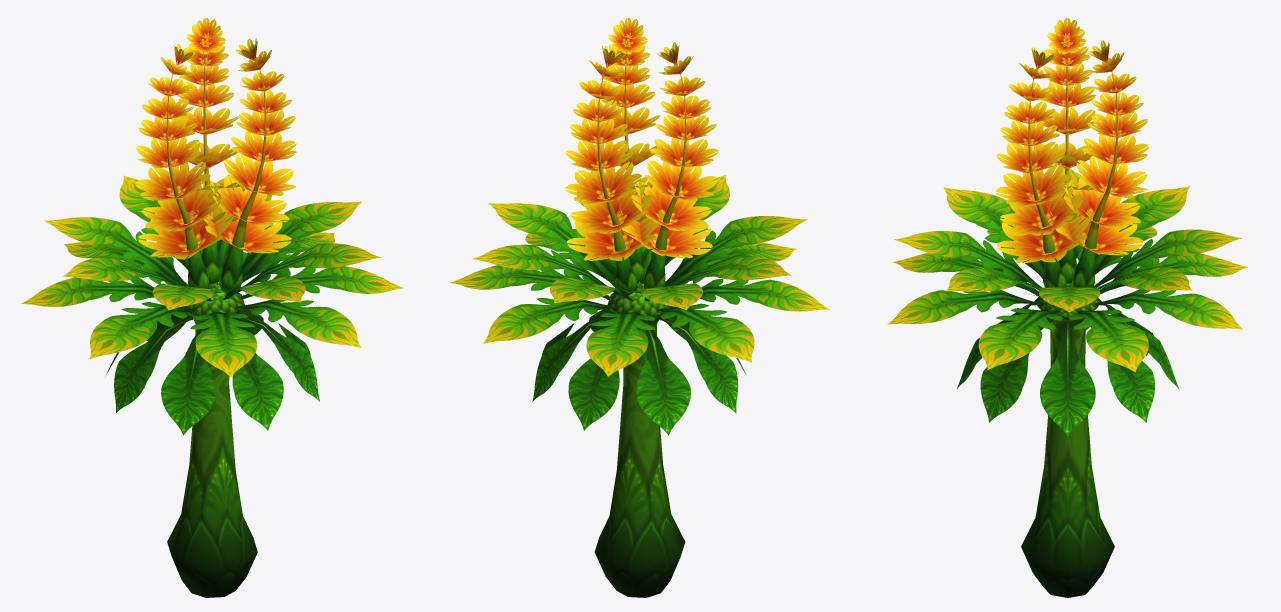
The model's file is Green_Tree_03c.FBX.
The picture shows the model from 3 angles, left to right: view 1: azimuth 30°, elevation 25°; view 2: azimuth 150°, elevation 25°; view 3: azimuth 270°, elevation 25°; orthographic projection.
Visible parts, largest first — view 1: Green_Tree_03c; view 2: Green_Tree_03c; view 3: Green_Tree_03c.
Part boxes in pixels (left/top/right/bottom): Green_Tree_03c: left=21, top=18, right=403, bottom=597; Green_Tree_03c: left=450, top=18, right=829, bottom=597; Green_Tree_03c: left=887, top=18, right=1248, bottom=597.
Size of the model in its own units: 201 by 310 by 201.
